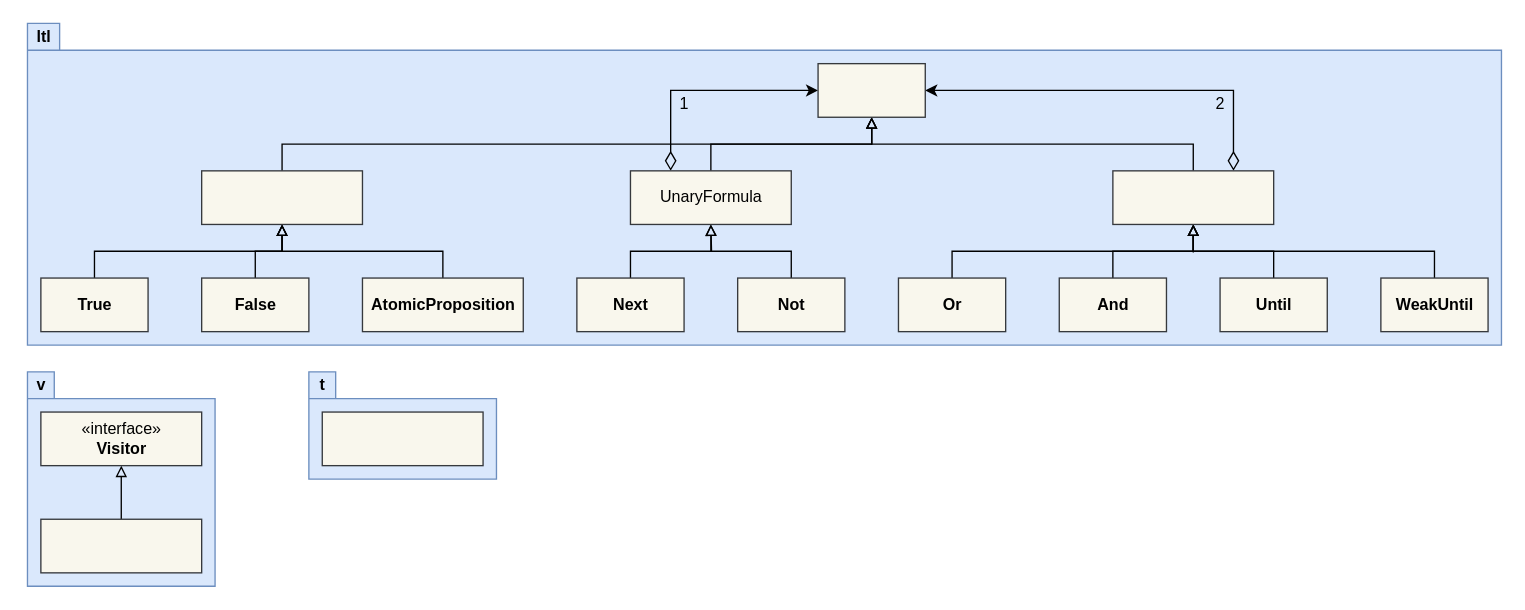
The diagram is 1525 pixels wide and 610 high, and some of its shapes have lost their labels. Here are the shapes that lost their labels. From the top down, the centre of each, then its label:
At (871,89): "Formula".
At (281,197): "ConstantFormula".
At (1193,197): "BinaryFormula".
At (402,438): "LTLPNFTester".
At (121,545): "FormulaVisitor".
